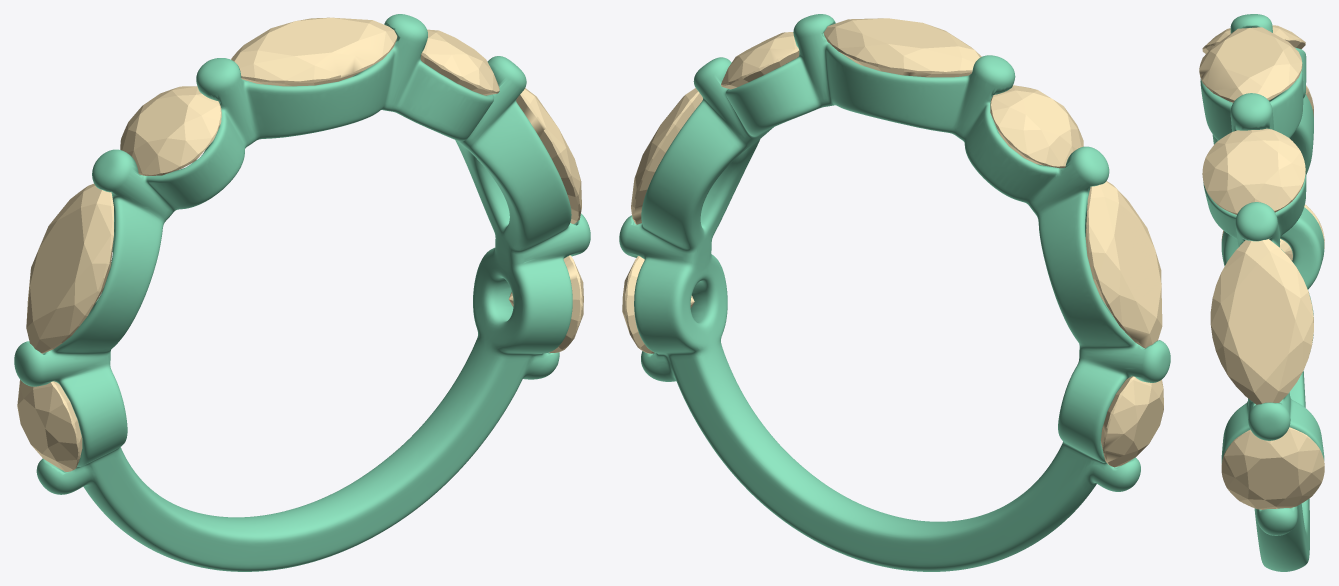
The picture shows the model from 3 angles, left to right: view 1: azimuth 30°, elevation 25°; view 2: azimuth 150°, elevation 25°; view 3: azimuth 270°, elevation 25°; orthographic projection. The views are drawn at different scales.
Visible parts, largest first — view 1: Metal02, Diamond_Round, Diamond_Round.002, Diamond_Round.006, Diamond_Round.005, Diamond_Round.003, Diamond_Round.001, Diamond_Round.004; view 2: Metal02, Diamond_Round, Diamond_Round.002, Diamond_Round.006, Diamond_Round.005, Diamond_Round.001, Diamond_Round.003, Diamond_Round.004; view 3: Metal02, Diamond_Round.001, Diamond_Round.003, Diamond_Round.004, Diamond_Round.002, Diamond_Round.006, Diamond_Round.005.
Part boxes in pixels (x1=…): Metal02: x1=14, y1=14, x2=590, y2=571; Diamond_Round: x1=26, y1=183, x2=113, y2=353; Diamond_Round.002: x1=231, y1=17, x2=397, y2=86; Diamond_Round.006: x1=120, y1=86, x2=221, y2=175; Diamond_Round.005: x1=17, y1=380, x2=82, y2=471; Diamond_Round.003: x1=420, y1=29, x2=499, y2=95; Diamond_Round.001: x1=516, y1=88, x2=581, y2=223; Diamond_Round.004: x1=508, y1=255, x2=583, y2=352; Metal02: x1=619, y1=14, x2=1170, y2=571; Diamond_Round: x1=1085, y1=181, x2=1162, y2=348; Diamond_Round.002: x1=824, y1=18, x2=981, y2=77; Diamond_Round.006: x1=990, y1=85, x2=1083, y2=168; Diamond_Round.005: x1=1101, y1=376, x2=1163, y2=467; Diamond_Round.001: x1=631, y1=88, x2=702, y2=224; Diamond_Round.003: x1=721, y1=32, x2=799, y2=89; Diamond_Round.004: x1=622, y1=256, x2=694, y2=353; Metal02: x1=1200, y1=14, x2=1324, y2=571; Diamond_Round.001: x1=1210, y1=239, x2=1313, y2=404; Diamond_Round.003: x1=1202, y1=128, x2=1305, y2=214; Diamond_Round.004: x1=1221, y1=427, x2=1324, y2=509; Diamond_Round.002: x1=1199, y1=27, x2=1302, y2=102; Diamond_Round.006: x1=1202, y1=25, x2=1305, y2=53; Diamond_Round.005: x1=1221, y1=204, x2=1324, y2=260.
Bounding box in the file's own units: 23.19 × 21.23 × 4.86.
